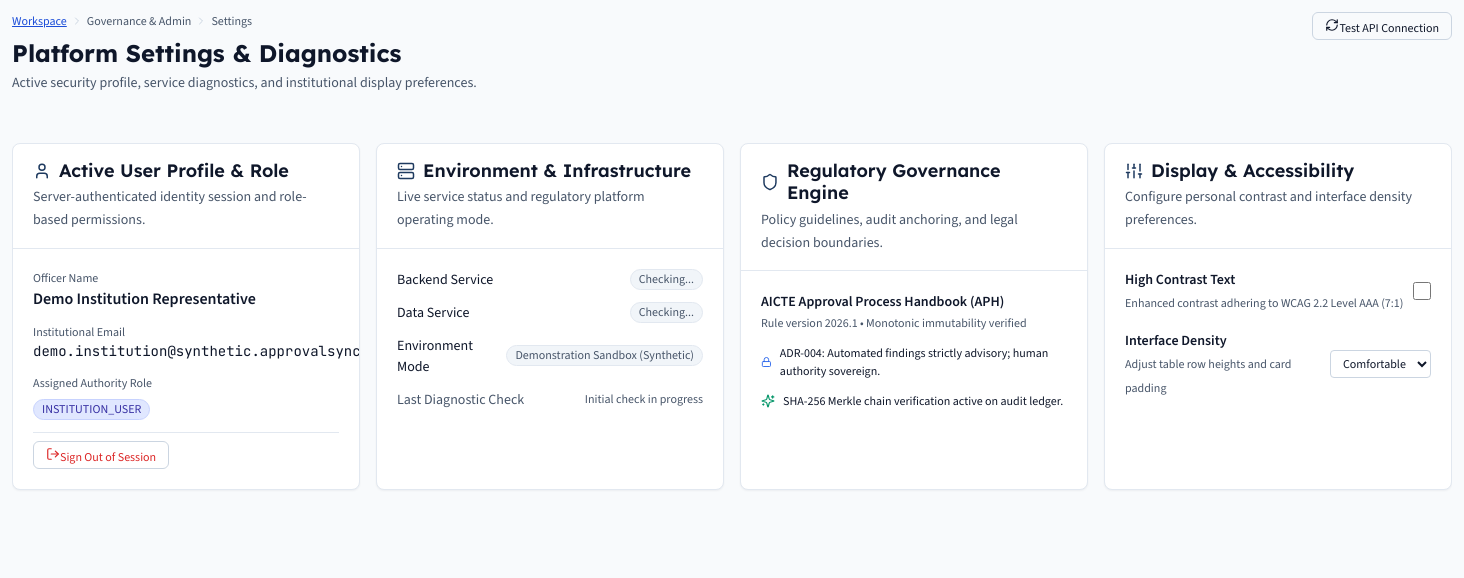
Test: Display Preferences & Settings Diagnostics (DEF-UI-06 & DEF-UI-07) › Test API Connection button performs real health check without fake math
The image size is (1464, 578).
Click the button with aria-label "Test API connection latency" at {"x": 1382, "y": 26}, box 1312,12 -> 1452,40
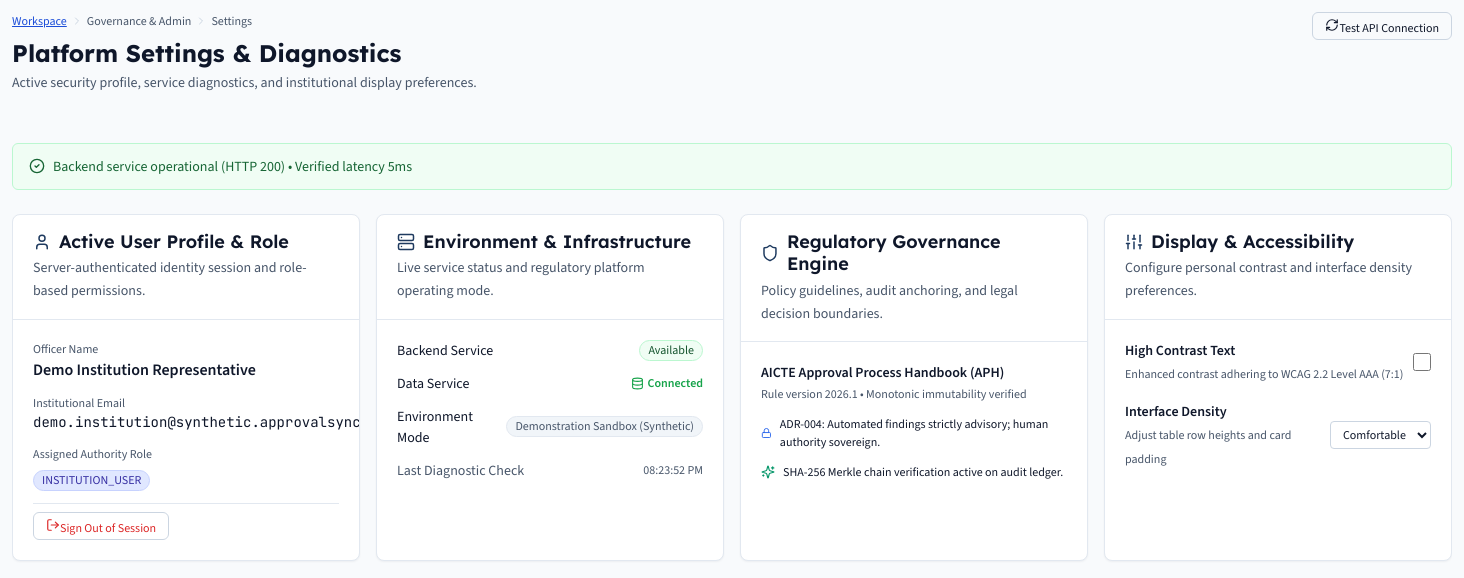
Check: the text "Verified latency" is shown, box 53,157 -> 412,176
